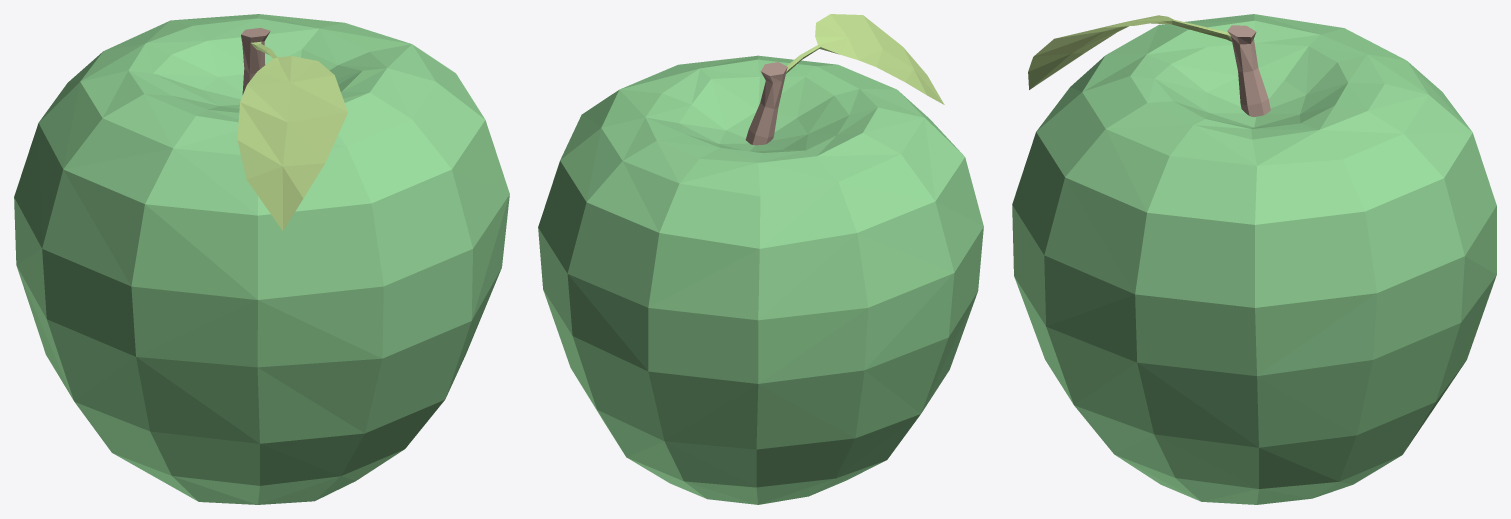
File: Apple.fbx
The picture shows the model from 3 angles, left to right: view 1: azimuth 30°, elevation 25°; view 2: azimuth 150°, elevation 25°; view 3: azimuth 270°, elevation 25°; orthographic projection. The views are drawn at different scales.
Visible parts, largest first — view 1: Apple; view 2: Apple; view 3: Apple.
Boxes of the visible parts, x1=… form: Apple: x1=14, y1=14, x2=509, y2=504; Apple: x1=538, y1=14, x2=983, y2=504; Apple: x1=1012, y1=14, x2=1496, y2=504.
Bounding box in the file's own units: 5.75 × 5.65 × 5.64.
